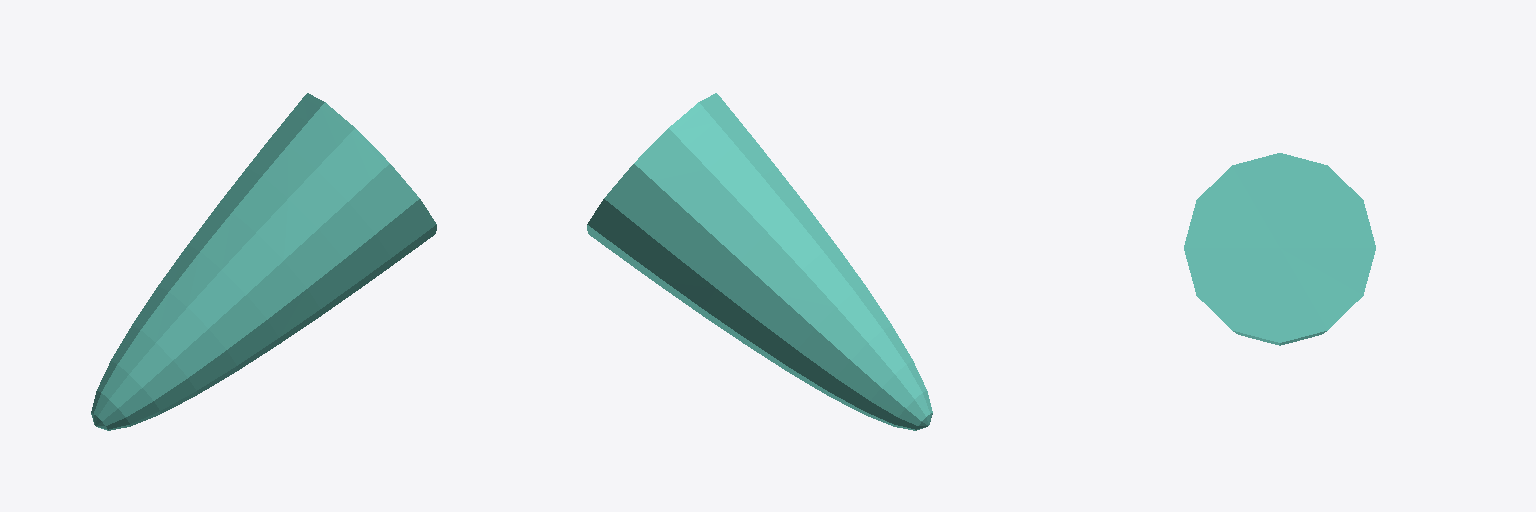
Rendered from tinker.obj.
3 renders of one model, left to right at view 1: azimuth 30°, elevation 25°; view 2: azimuth 150°, elevation 25°; view 3: azimuth 270°, elevation 25°, orthographic.
Parts seen in each view (by area): view 1: obj_0; view 2: obj_0; view 3: obj_0.
Part boxes in pixels (x1,y1,x2,y2): obj_0: (91,93,436,430); obj_0: (587,93,932,430); obj_0: (1184,153,1375,345).
Bounding box in the file's own units: 5.84 × 4.7 × 3.